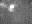person: (8, 4, 16, 12), (0, 2, 5, 7)
